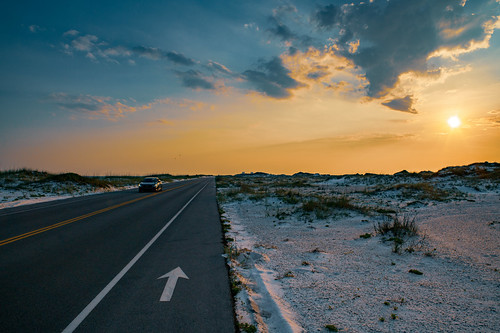car: (135, 173, 162, 195)
sky: (1, 1, 498, 164)
street: (1, 171, 221, 333)
